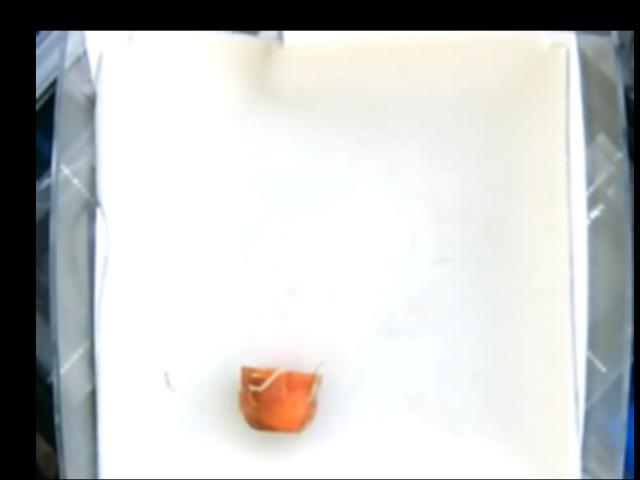Carrot: (239, 365, 323, 437)
